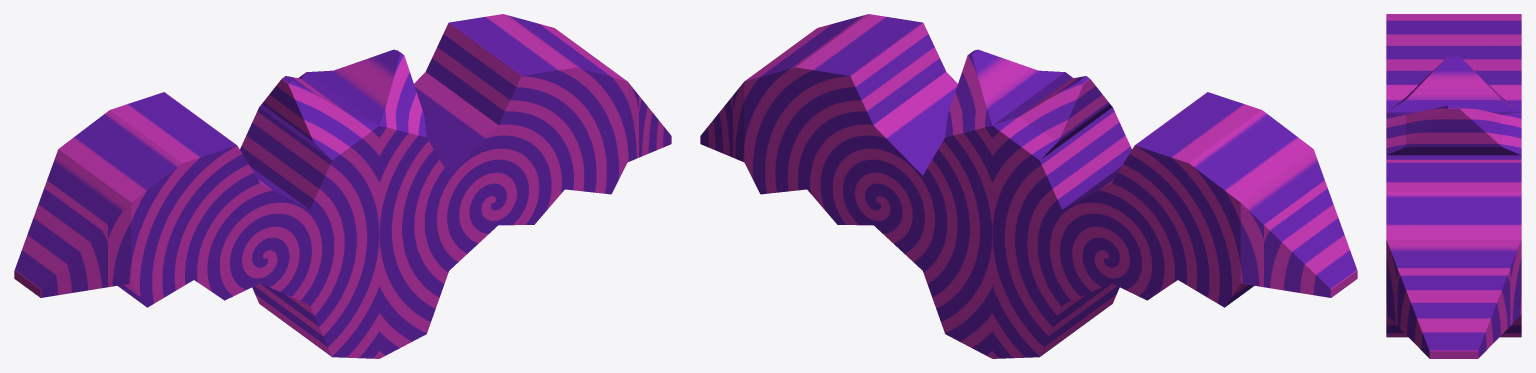
The model's file is enemy_bat.fbx.
3 renders of one model, left to right at view 1: azimuth 30°, elevation 25°; view 2: azimuth 150°, elevation 25°; view 3: azimuth 270°, elevation 25°, orthographic. The views are drawn at different scales.
Visible parts, largest first — view 1: mesh_bat; view 2: mesh_bat; view 3: mesh_bat.
Boxes of the visible parts, x1=… form: mesh_bat: x1=14, y1=14, x2=671, y2=358; mesh_bat: x1=700, y1=14, x2=1357, y2=358; mesh_bat: x1=1386, y1=14, x2=1521, y2=358.
Size of the model in its own units: 499 by 202 by 100.
